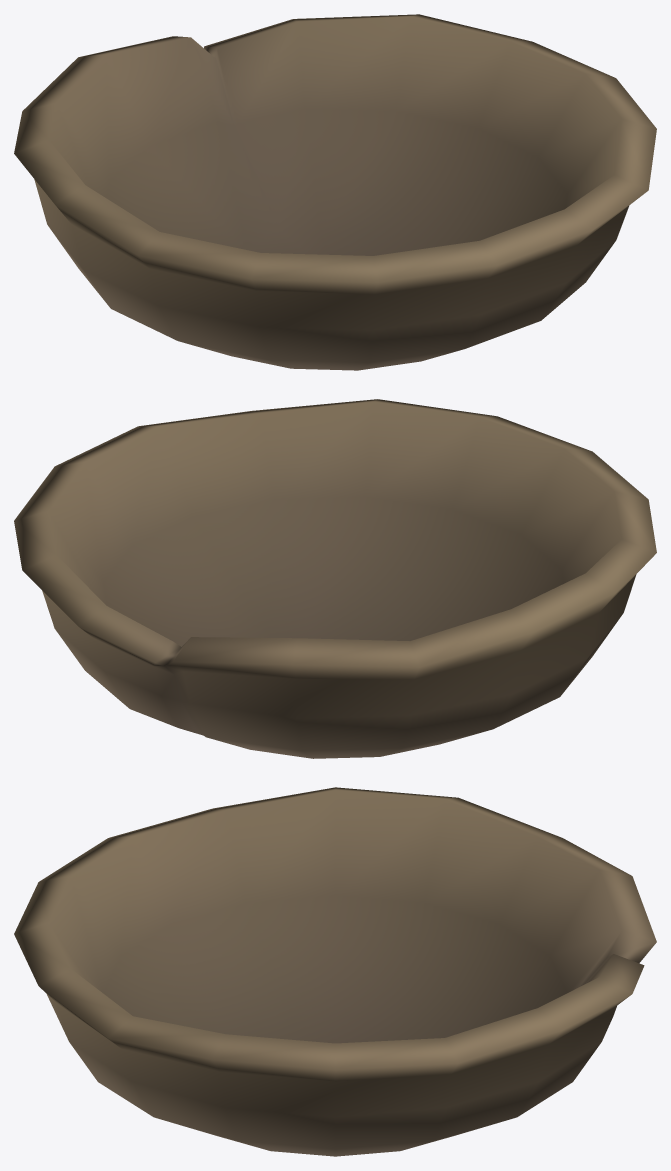
The model's file is furnishings-indoor-ceramicpot_v4.glb.
3 views of the same model, one above another, from view 1: azimuth 30°, elevation 25°; view 2: azimuth 150°, elevation 25°; view 3: azimuth 270°, elevation 25° (orthographic).
Visible parts, largest first — view 1: CeramicPot_v4; view 2: CeramicPot_v4; view 3: CeramicPot_v4.
Boxes of the visible parts, box(x1,y1,x2,y2) form: CeramicPot_v4: box(14, 14, 656, 370); CeramicPot_v4: box(14, 399, 656, 758); CeramicPot_v4: box(14, 787, 656, 1156).
Size of the model in its own units: 0.5079 by 0.1721 by 0.5079.
